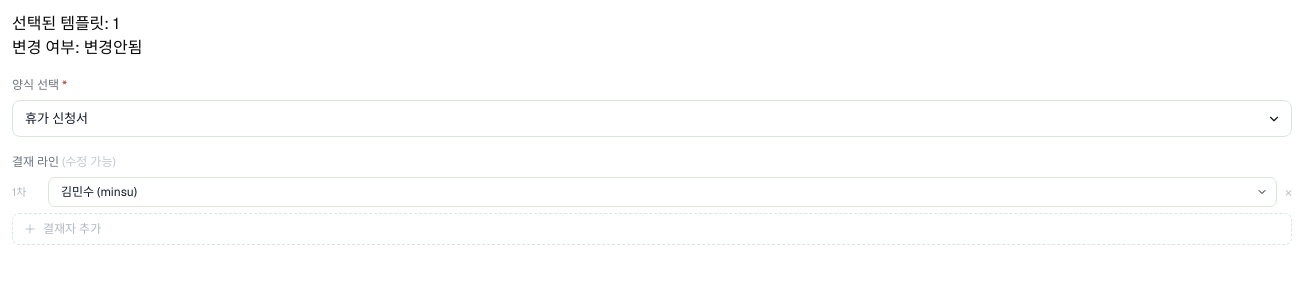
Test: ApprovalLine › 결재자 추가를 클릭하면 사용 가능한 구성원을 결재선에 추가하고 변경 여부를 표시한다
This screenshot has width=1304, height=298.
Expected: the text "선택된 템플릿: 1" is shown, [12,13,119,34]
Expected: the dropdown named "1차 결재자" is shown, [49,178,1276,206]
Step 1. Click the button "결재자 추가" → (72, 229), box [12,213,1292,245]
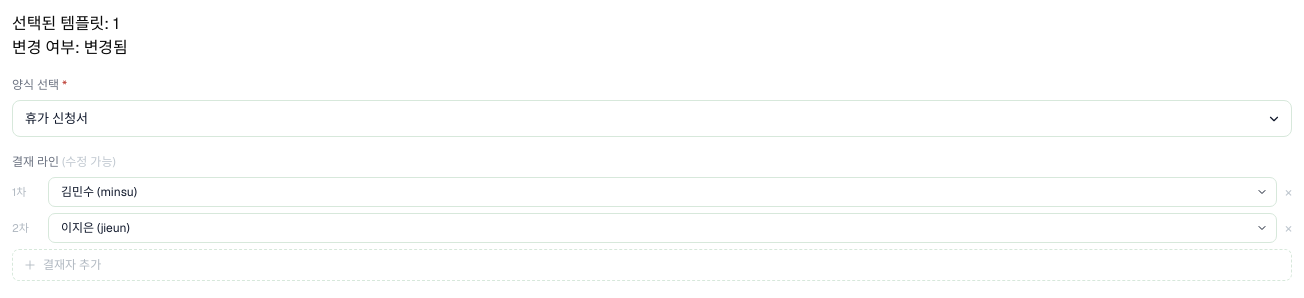
Now the dropdown named "2차 결재자" shows "이지은 (jieun)", box [49,214,1276,242]
Now the text "변경 여부: 변경됨" is shown, box [12,37,128,58]
